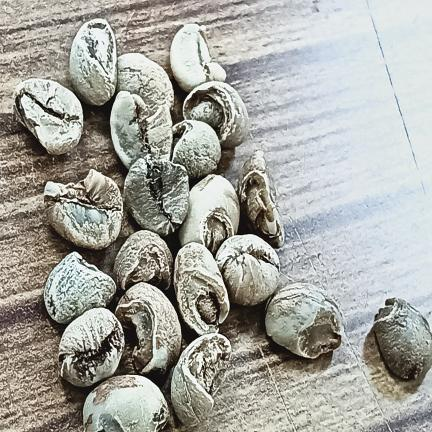broken: (44, 169, 123, 249), (115, 282, 181, 376), (265, 283, 341, 358), (171, 333, 231, 426), (13, 78, 83, 155), (124, 155, 189, 236), (58, 308, 124, 387), (44, 252, 116, 324), (174, 242, 229, 336), (83, 375, 169, 432), (179, 174, 240, 254), (110, 91, 172, 169), (373, 298, 432, 379), (215, 234, 280, 306), (238, 150, 284, 248), (183, 81, 249, 149), (70, 19, 117, 105), (170, 24, 226, 92), (114, 230, 173, 291), (116, 53, 174, 114), (171, 120, 221, 178)
